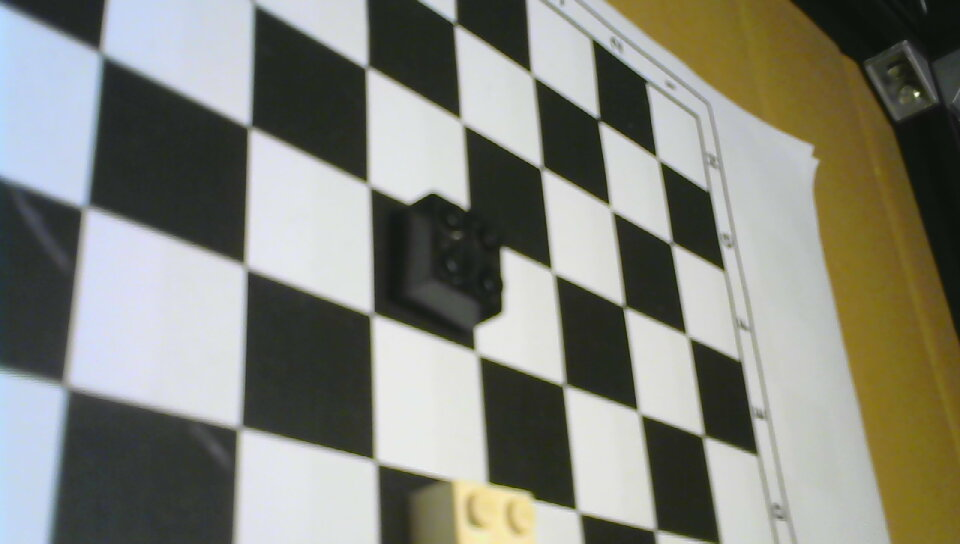bp: (393, 189, 506, 332)
